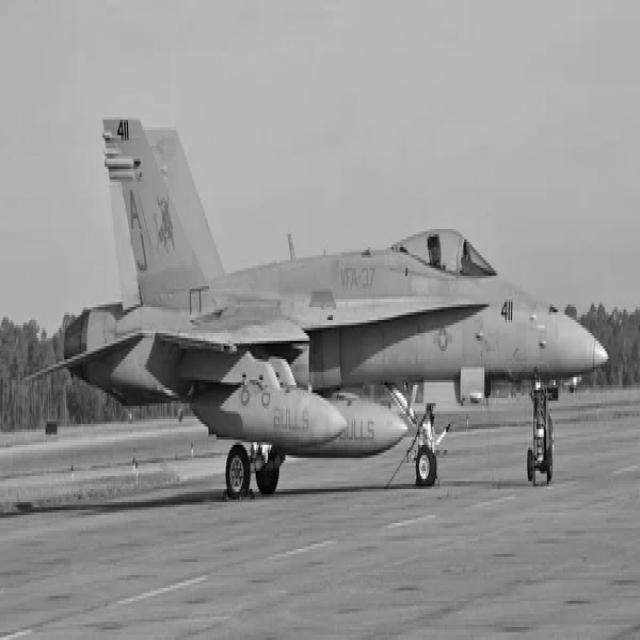Aircraft: (48, 103, 609, 515)
